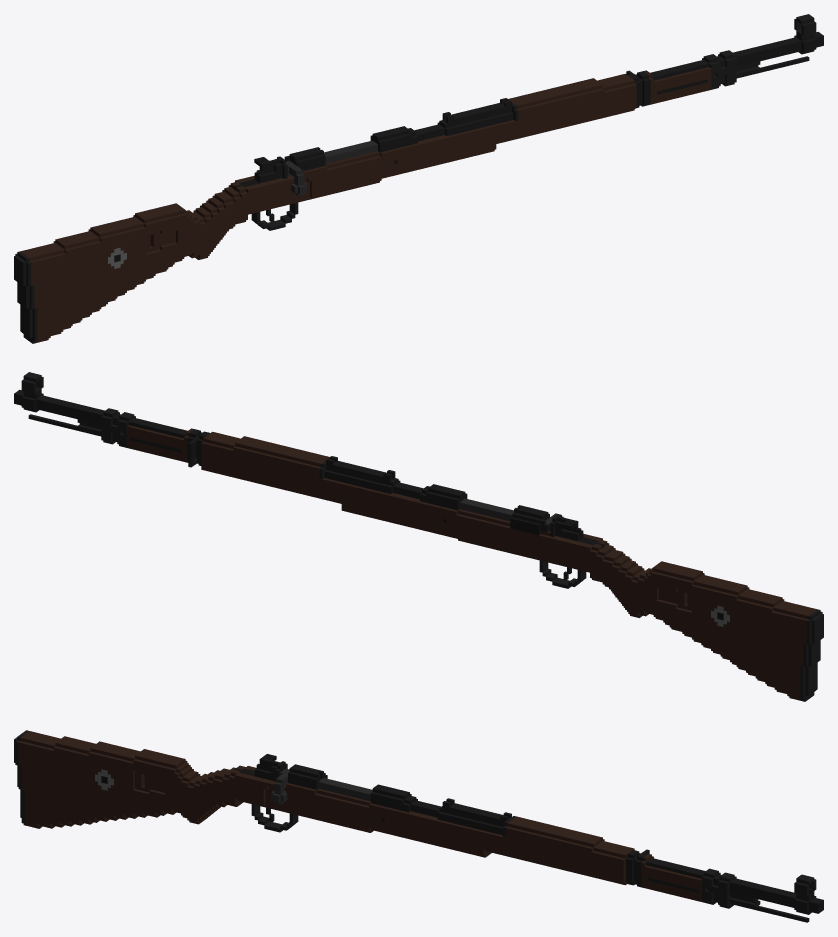
Rendered from Kar98k_prefab_no_sighthood.obj.
The picture shows the model from 3 angles, top to bottom: view 1: azimuth 30°, elevation 25°; view 2: azimuth 150°, elevation 25°; view 3: azimuth 330°, elevation 25°; orthographic projection.
Bounding box in the file's own units: 25.2 × 4 × 1.3.
1 material, 1 textured.
